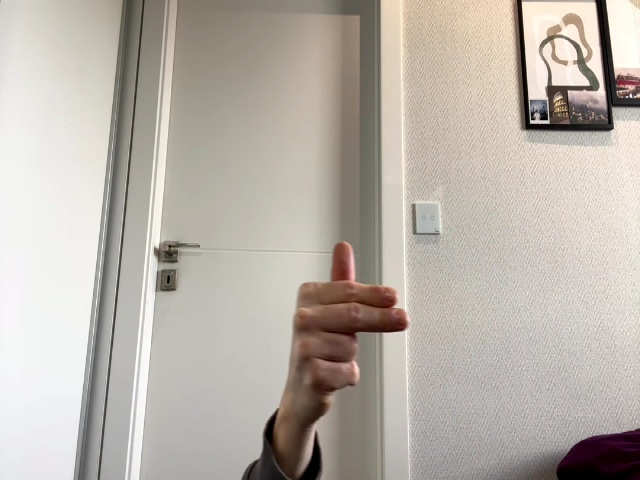N: (289, 241, 410, 414)
